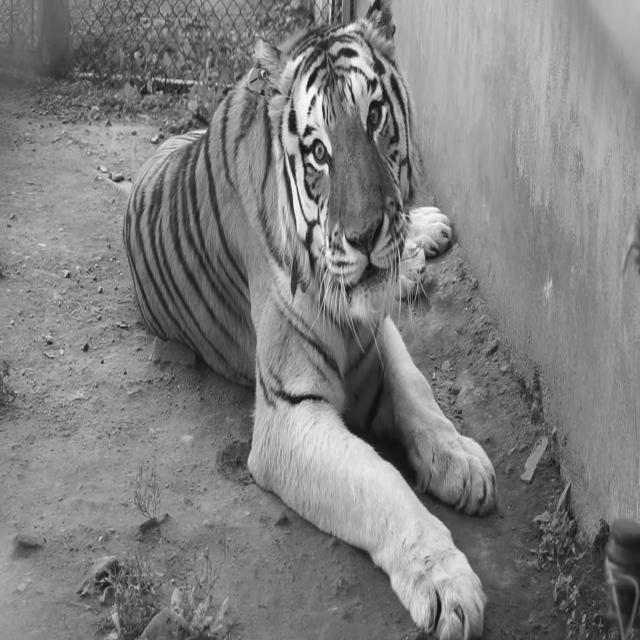Tiger: (122, 1, 498, 638)
